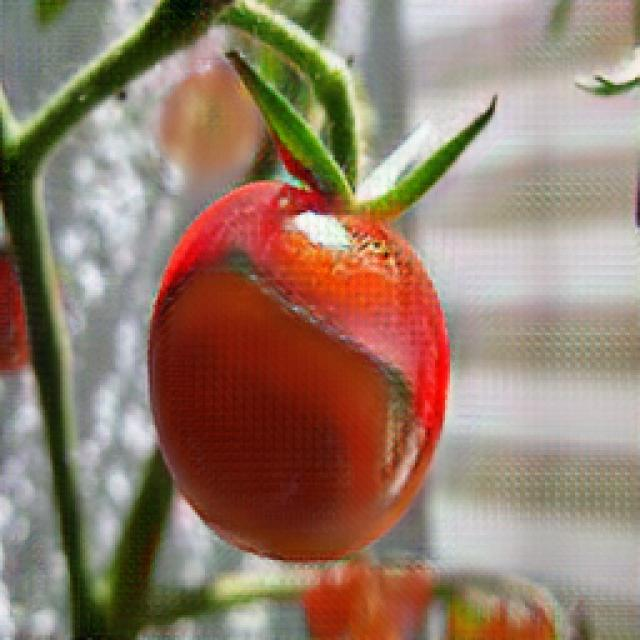overripe tomato: (150, 178, 456, 561)
